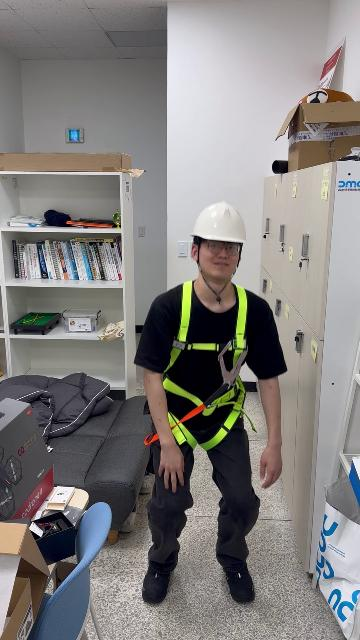helmet_worn: (189, 199, 250, 244)
shoe_worn: (223, 565, 254, 603), (142, 567, 172, 604)
vest_worn: (155, 288, 254, 450)
